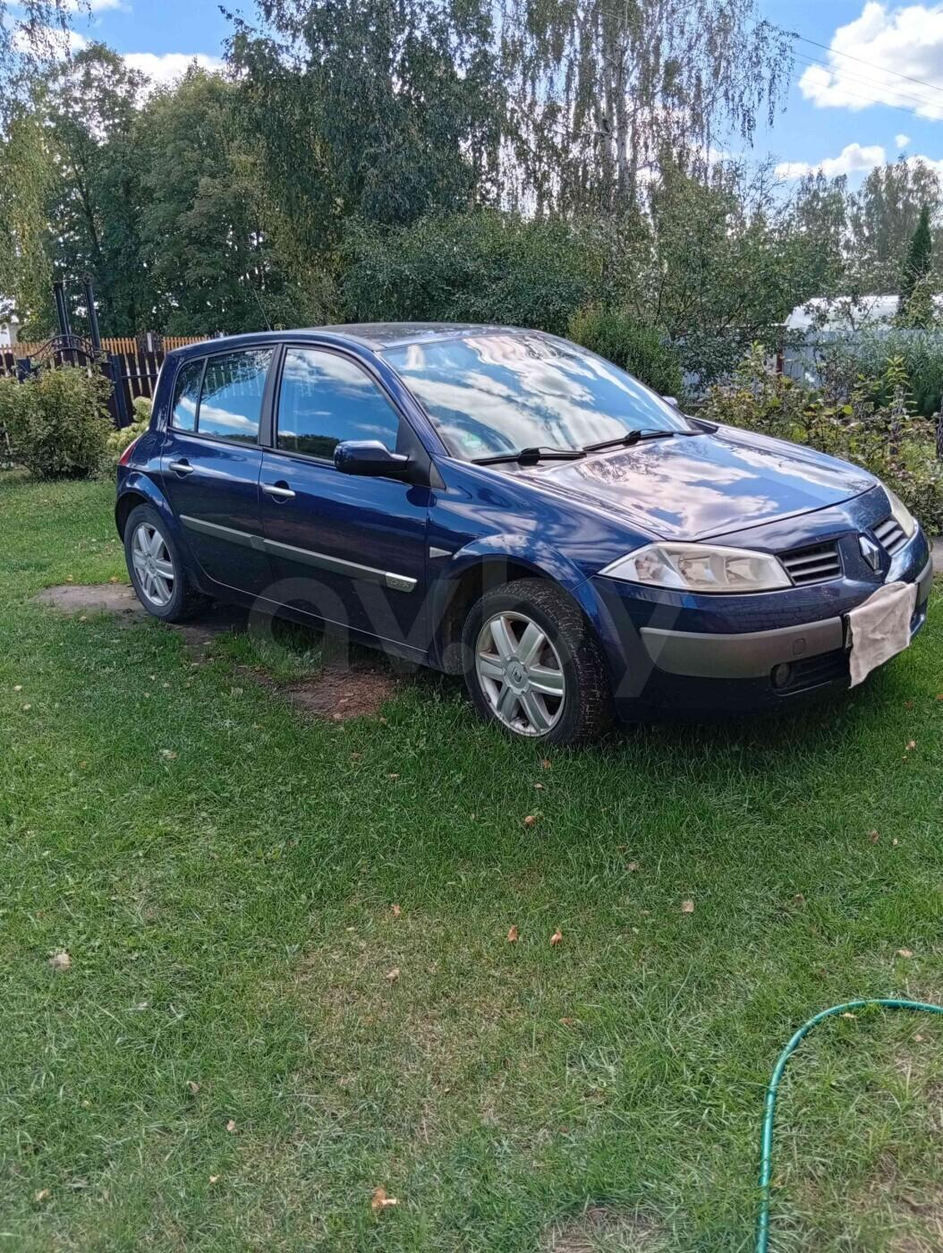Megane_2002-2006: (109, 311, 938, 746)
